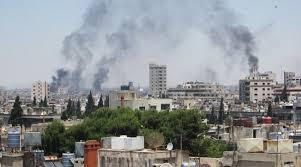smoke: (83, 20, 118, 55)
